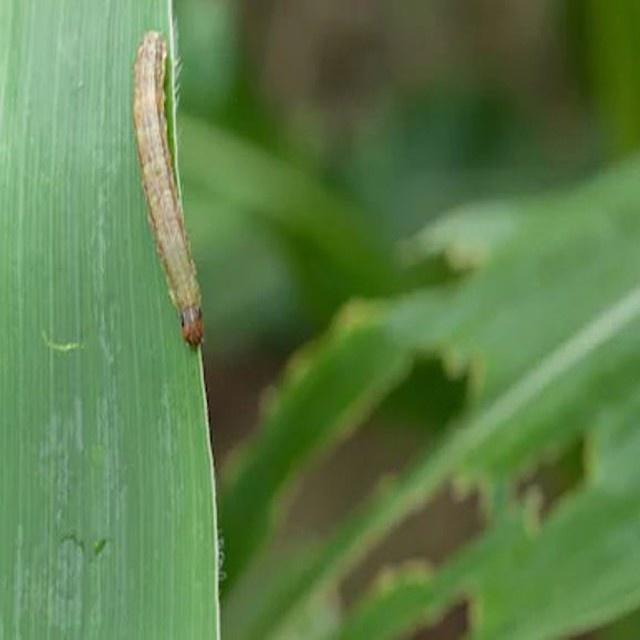Plaga: (140, 73, 330, 91)
